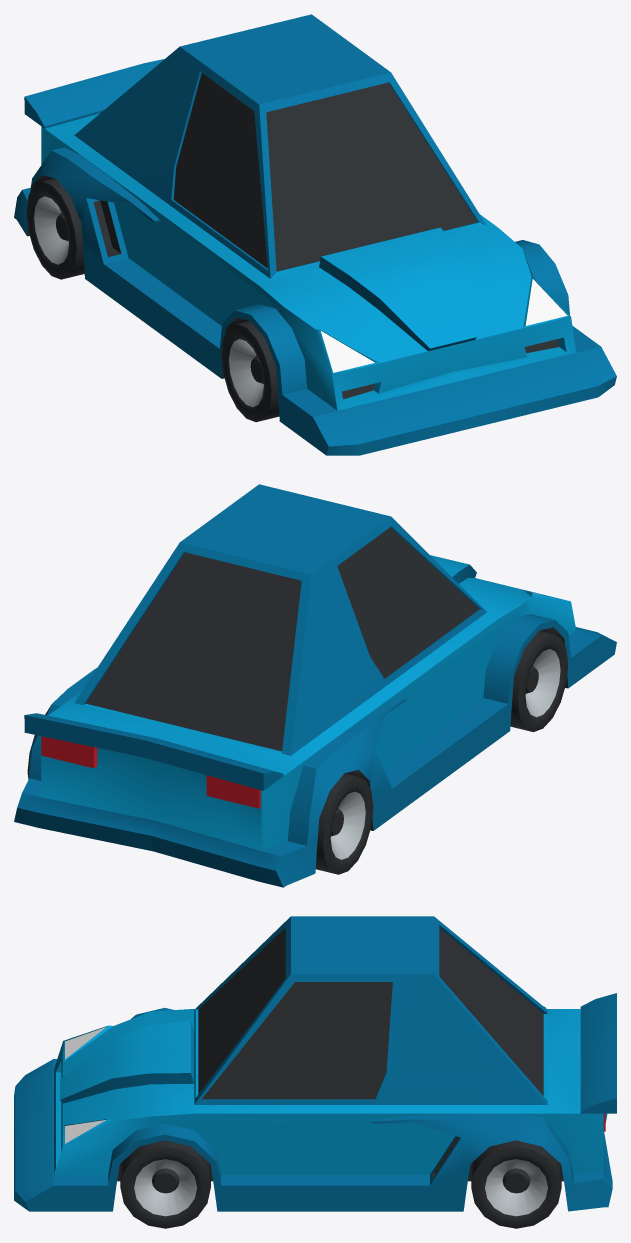
The model's file is Race Royale.fbx_Car9.fbx.
The picture shows the model from 3 angles, top to bottom: view 1: azimuth 30°, elevation 25°; view 2: azimuth 150°, elevation 25°; view 3: azimuth 270°, elevation 25°; orthographic projection. The views are drawn at different scales.
Visible parts, largest first — view 1: Car9, Car9Wheel4, Car9Wheel2; view 2: Car9, Car9Wheel2, Car9Wheel4; view 3: Car9, Car9Wheel3, Car9Wheel1.
Part boxes in pixels (bbox=[...]): Car9: bbox=[14, 14, 616, 455]; Car9Wheel4: bbox=[26, 178, 84, 279]; Car9Wheel2: bbox=[221, 321, 279, 422]; Car9: bbox=[14, 484, 616, 887]; Car9Wheel2: bbox=[510, 630, 568, 731]; Car9Wheel4: bbox=[315, 773, 373, 874]; Car9: bbox=[14, 916, 616, 1211]; Car9Wheel3: bbox=[471, 1140, 561, 1228]; Car9Wheel1: bbox=[120, 1140, 210, 1228].
Size of the model in its own units: 299 by 232 by 581.
